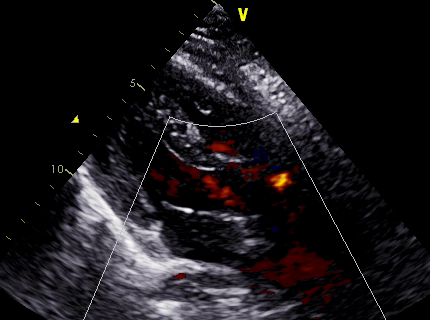AR: (170, 167, 285, 217)
